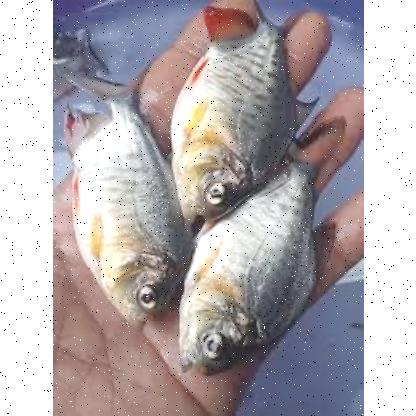ikan-pacu: (174, 154, 326, 372), (172, 16, 294, 220), (66, 88, 172, 316)
